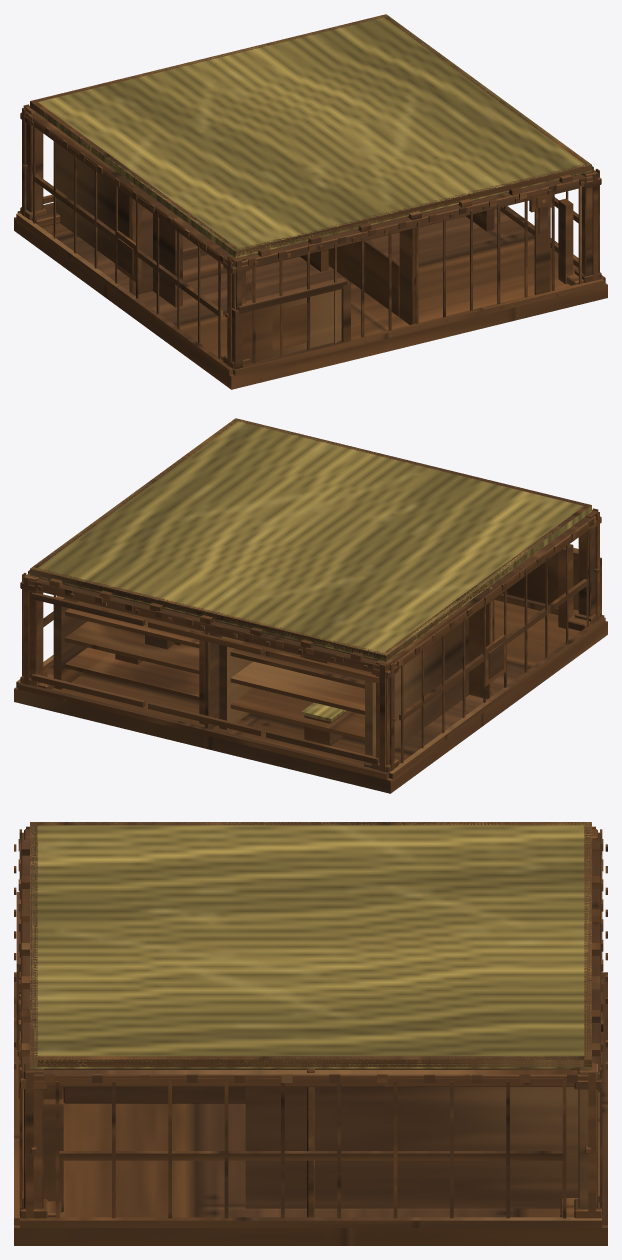
3 renders of one model, top to bottom at view 1: azimuth 30°, elevation 25°; view 2: azimuth 150°, elevation 25°; view 3: azimuth 270°, elevation 25°, orthographic. The views are drawn at different scales.
Parts seen in each view (by area): view 1: SM_HDBF_BoxFarm_Basic_LOD0; view 2: SM_HDBF_BoxFarm_Basic_LOD0; view 3: SM_HDBF_BoxFarm_Basic_LOD0.
Boxes of the visible parts, x1=… form: SM_HDBF_BoxFarm_Basic_LOD0: x1=14, y1=14, x2=607, y2=389; SM_HDBF_BoxFarm_Basic_LOD0: x1=14, y1=418, x2=607, y2=793; SM_HDBF_BoxFarm_Basic_LOD0: x1=14, y1=822, x2=607, y2=1245.
Bounding box in the file's own units: 3 × 1 × 3.
Materials: 2 (2 with a texture image).
